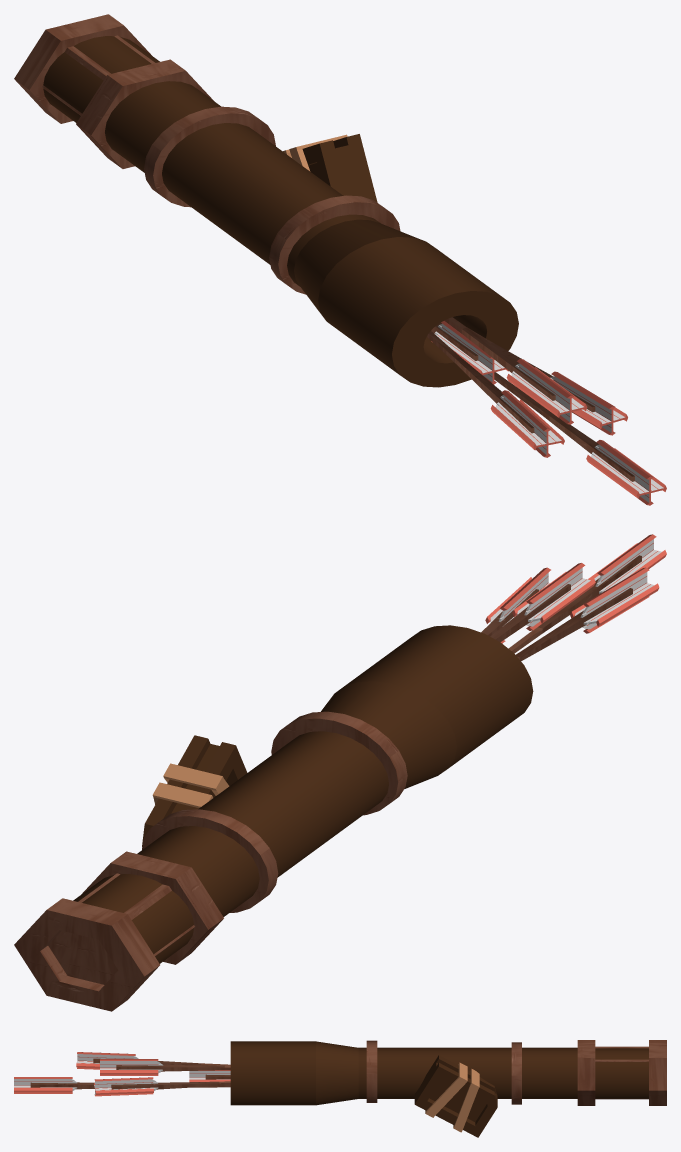
Rendered from Quiver2.obj.
3 views of the same model, one above another, from view 1: azimuth 30°, elevation 25°; view 2: azimuth 150°, elevation 25°; view 3: azimuth 270°, elevation 25° (orthographic). The views are drawn at different scales.
Parts seen in each view (by area): view 1: attachment_barrelEnd, fence_gardenRound%, clipBarrel_small, attachment_barrelThin, tree_branchLong, clip_tape; view 2: attachment_barrelEnd, clipBarrel_small, attachment_barrelThin, fence_gardenRound%, clip_tape, tree_branchLong; view 3: attachment_barrelEnd, clip_tape, fence_gardenRound%, clipBarrel_small, tree_branchLong, attachment_barrelThin.
Part boxes in pixels (x1=…): attachment_barrelEnd: x1=43, y1=36, x2=518, y2=387; fence_gardenRound%: x1=431, y1=321, x2=666, y2=505; clipBarrel_small: x1=14, y1=14, x2=214, y2=168; attachment_barrelThin: x1=144, y1=106, x2=400, y2=294; tree_branchLong: x1=427, y1=317, x2=634, y2=481; clip_tape: x1=283, y1=134, x2=377, y2=202; attachment_barrelEnd: x1=73, y1=625, x2=533, y2=963; clipBarrel_small: x1=14, y1=851, x2=223, y2=1011; attachment_barrelThin: x1=142, y1=711, x2=407, y2=912; fence_gardenRound%: x1=485, y1=534, x2=666, y2=643; clip_tape: x1=142, y1=735, x2=247, y2=846; tree_branchLong: x1=481, y1=555, x2=641, y2=661; attachment_barrelEnd: x1=230, y1=1041, x2=648, y2=1105; clip_tape: x1=414, y1=1055, x2=497, y2=1137; fence_gardenRound%: x1=14, y1=1052, x2=230, y2=1096; clipBarrel_small: x1=577, y1=1040, x2=666, y2=1105; tree_branchLong: x1=30, y1=1058, x2=230, y2=1089; attachment_barrelThin: x1=366, y1=1040, x2=521, y2=1104.
Bounding box in the file's own units: 0.5756 × 0.4417 × 3.65.
Materials: 6 (2 with a texture image).
